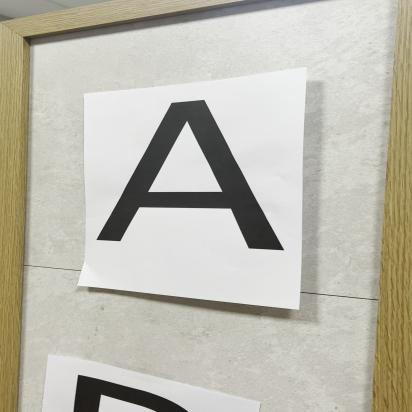seat: (79, 84, 298, 268), (86, 92, 300, 263)
